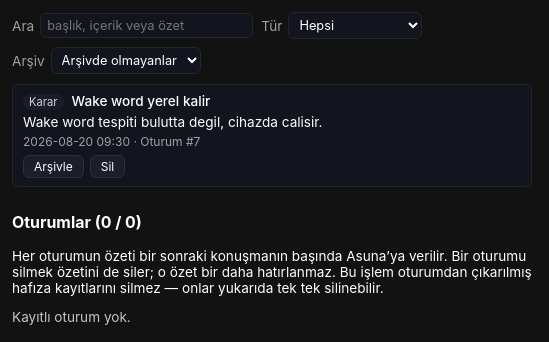
MemoryView — silme › once onay ister, onaysiz silmez
expect the heading "Wake word yerel kalir" is shown: met, box [72, 93, 210, 109]
Click the button with aria-label "Sil: Wake word yerel kalir". click: [108, 166]
box: [90, 155, 125, 178]
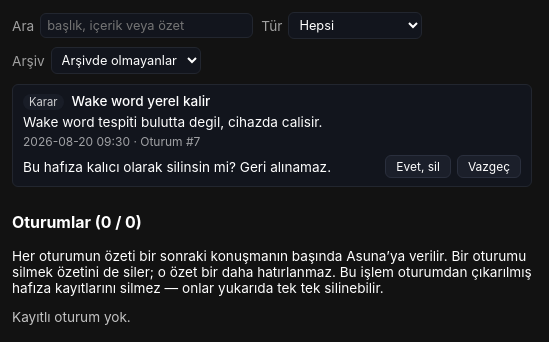
expect the text "Bu hafıza kalıcı olarak silinsin mi? Geri alınamaz." is shown: met, box [23, 158, 379, 174]
